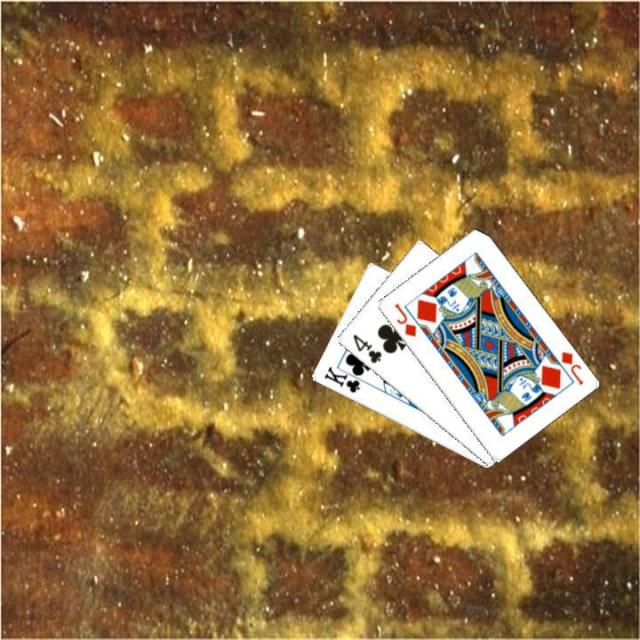4C: (349, 331, 383, 365)
JD: (556, 346, 585, 386), (389, 300, 418, 338)
KC: (320, 362, 369, 394)
